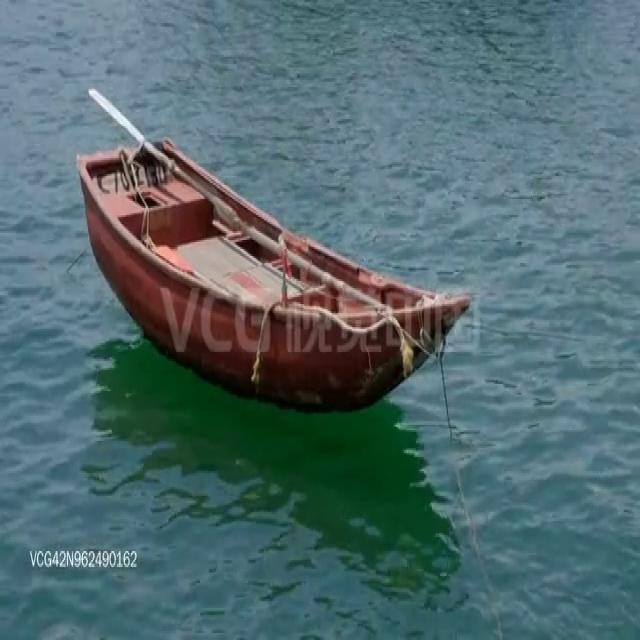fishing boat: (75, 82, 470, 408)
